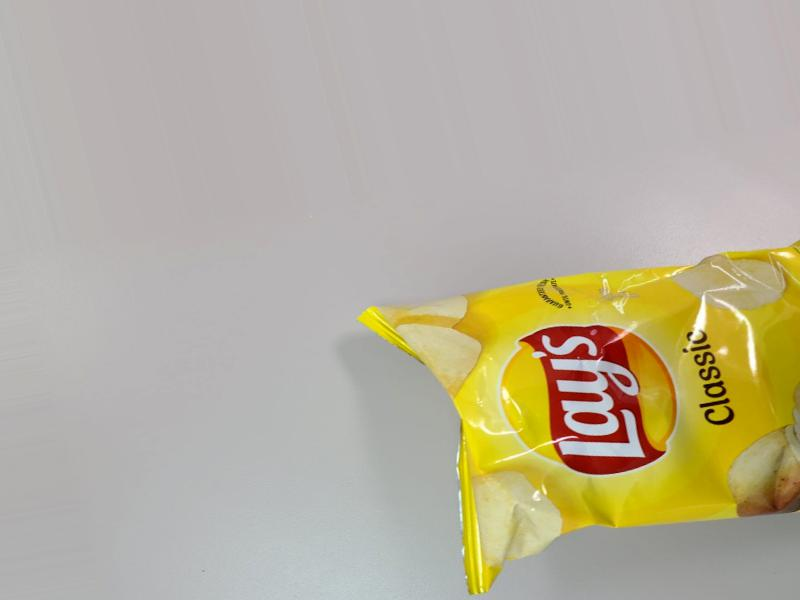lays: (407, 254, 706, 564)
